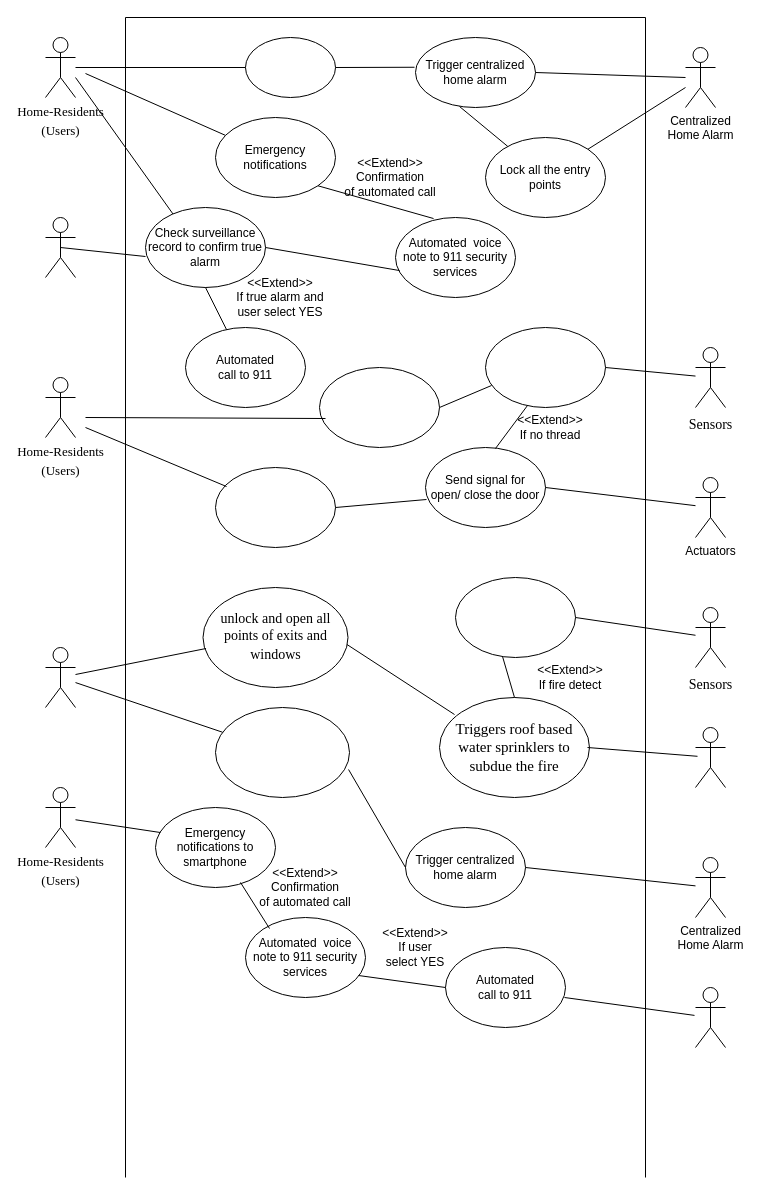
Image size: 765x1196. Some labels were removed from this diagram. Each missing label, with the centre of its shape:
Automatically shut down electrical appliances: point 282,752
Check thread for open/close command: point 545,367
Detect fire, smoke, CO level: point 515,617
Detects an intrusion: point 290,67
Door, Main gate open/close command: point 379,407
Home security management: point 60,677
Notification Manager Subcontinent: point 710,1017
Receive the confirmation notification: point 275,507
Roof based water sparkler: point 710,757
Surveillance Camera: point 60,247
